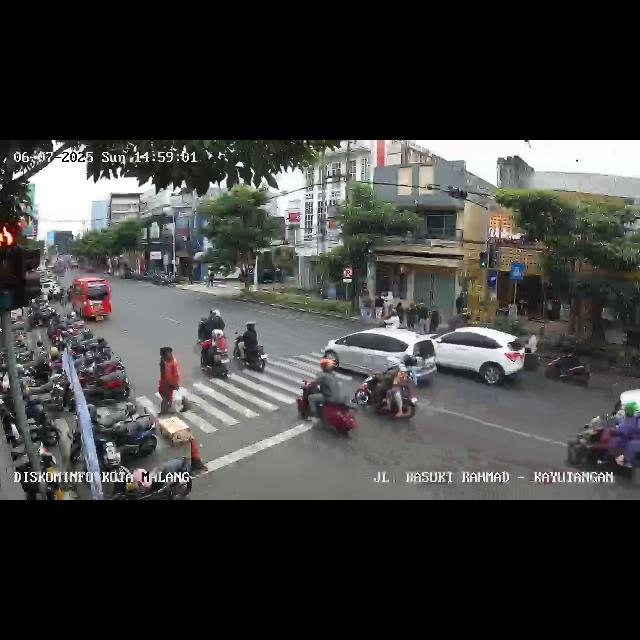car: (320, 326, 438, 384), (436, 322, 526, 390), (68, 277, 112, 323)
motorcycle: (566, 402, 640, 488), (296, 358, 360, 442), (354, 356, 420, 424), (542, 347, 594, 391), (235, 322, 268, 374), (200, 329, 232, 381), (197, 308, 227, 344)
person: (156, 344, 180, 416), (418, 302, 428, 334), (406, 300, 416, 328), (430, 305, 440, 331), (397, 300, 405, 324)
